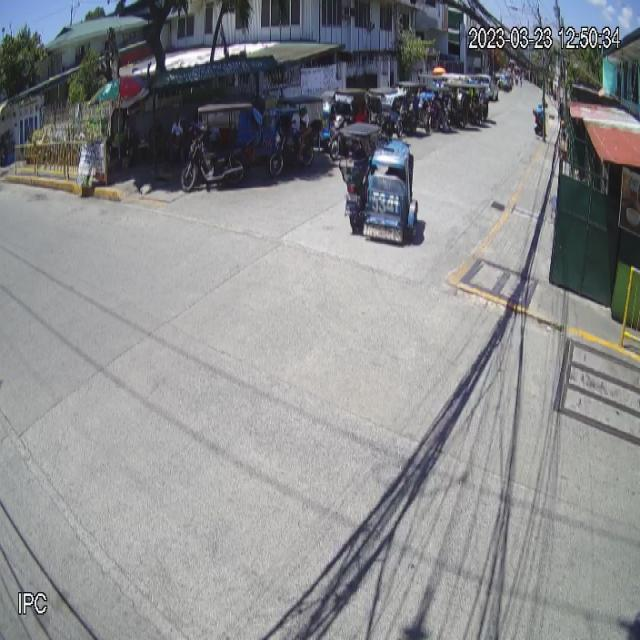Tricycle: (335, 121, 420, 245)
